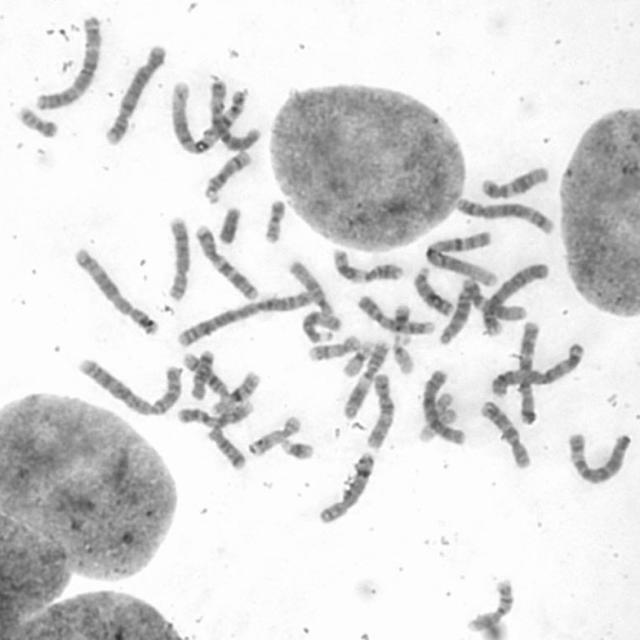A1: (165, 77, 259, 157), (420, 228, 500, 286)
A2: (172, 286, 314, 348), (72, 353, 185, 418)
A3: (32, 12, 104, 112), (487, 340, 586, 396)
B4: (102, 40, 167, 147), (478, 258, 550, 338)
B5: (70, 244, 161, 337), (452, 193, 557, 236)
C10: (478, 397, 532, 470), (363, 371, 395, 450)
C11: (340, 337, 392, 420), (329, 246, 405, 286)
C12: (456, 276, 526, 322), (478, 162, 550, 201)
C6: (206, 76, 262, 153), (562, 426, 632, 486)
C7: (192, 221, 260, 302), (515, 317, 541, 426)
C8: (314, 449, 377, 526), (164, 213, 191, 303)
C9: (355, 292, 435, 336), (174, 398, 256, 430)
D13: (435, 282, 474, 346), (411, 263, 453, 317)
D14: (201, 148, 252, 204), (180, 350, 231, 399)
D15: (286, 258, 338, 320), (298, 307, 343, 345)
E16: (466, 578, 516, 632), (209, 367, 262, 416)
E17: (246, 413, 304, 458), (305, 332, 361, 363)
E18: (204, 423, 247, 472), (182, 347, 221, 400)
F19: (339, 338, 379, 378), (416, 408, 458, 446)
F20: (15, 102, 60, 138), (260, 196, 288, 246)
G21: (277, 436, 316, 461), (393, 304, 412, 336)
G22: (391, 333, 416, 375), (427, 390, 453, 421)
X: (420, 366, 468, 447)
Y: (215, 203, 242, 246)
